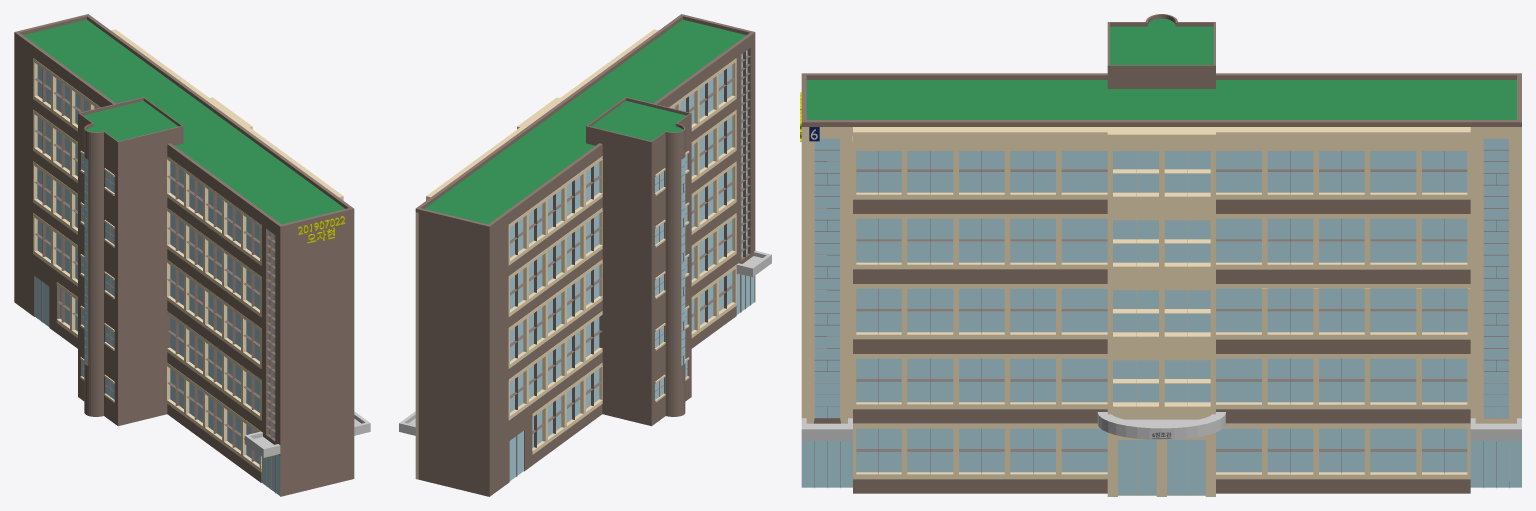
The model's file is 6building_5.glb.
3 renders of one model, left to right at view 1: azimuth 30°, elevation 25°; view 2: azimuth 150°, elevation 25°; view 3: azimuth 270°, elevation 25°, orthographic. The views are drawn at different scales.
Parts seen in each view (by area): view 1: 5,6사이건물, right-side-building, 후면창문, left-side-building, Cube.042, Cube.027, Cube.056, Cube.058, Cube.057, Cube.059, Cube.044, Cube.069 (+9 smaller); view 2: 5,6사이건물, left-side-building, 후면창문, Cube.042, right-side-building, Cube.027, Cube.069, Cube.001, Cube.059, Cube.044, Cube.056, Cube.057 (+8 smaller); view 3: 정면창문, 5,6사이건물, Cube.036, center, Cube.001, left-side-building, right-side-building, Cube.078, Cube.025, Cube.027, Cube.047, Cube.049 (+12 smaller).
Boxes of the visible parts, bbox=[...] form: 5,6사이건물: bbox=[33, 32, 331, 482]; right-side-building: bbox=[261, 199, 354, 496]; 후면창문: bbox=[37, 65, 259, 464]; left-side-building: bbox=[14, 19, 103, 315]; Cube.042: bbox=[33, 58, 100, 337]; Cube.027: bbox=[87, 15, 352, 208]; Cube.056: bbox=[167, 311, 261, 420]; Cube.058: bbox=[167, 208, 261, 316]; Cube.057: bbox=[167, 259, 261, 368]; Cube.059: bbox=[167, 156, 261, 265]; Cube.044: bbox=[167, 363, 261, 471]; Cube.069: bbox=[15, 32, 281, 228]; 5,6사이건물: bbox=[438, 32, 736, 482]; left-side-building: bbox=[415, 199, 508, 496]; 후면창문: bbox=[510, 65, 732, 447]; Cube.042: bbox=[508, 156, 602, 454]; right-side-building: bbox=[666, 19, 755, 315]; Cube.027: bbox=[417, 15, 682, 208]; Cube.069: bbox=[488, 32, 753, 228]; Cube.001: bbox=[426, 29, 658, 200]; Cube.059: bbox=[669, 58, 736, 131]; Cube.044: bbox=[691, 264, 736, 337]; Cube.056: bbox=[691, 213, 736, 286]; Cube.057: bbox=[691, 161, 736, 234]; 정면창문: bbox=[856, 151, 1467, 472]; 5,6사이건물: bbox=[853, 14, 1470, 493]; Cube.036: bbox=[1216, 144, 1470, 479]; center: bbox=[1107, 130, 1215, 495]; Cube.001: bbox=[853, 127, 1470, 150]; left-side-building: bbox=[1470, 80, 1521, 487]; right-side-building: bbox=[801, 80, 852, 487]; Cube.078: bbox=[1483, 138, 1508, 371]; Cube.025: bbox=[814, 138, 839, 371]; Cube.027: bbox=[805, 120, 1517, 126]; Cube.047: bbox=[853, 354, 1107, 409]; Cube.049: bbox=[853, 284, 1107, 339].
Bounding box in the file's own units: 103 × 165 × 281.
